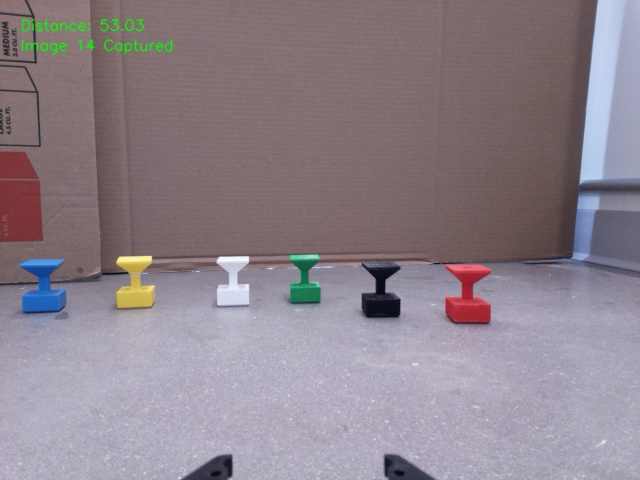block: (445, 263, 492, 324), (20, 258, 68, 314), (115, 256, 157, 309), (363, 262, 402, 318), (214, 256, 254, 307), (288, 254, 321, 304)
